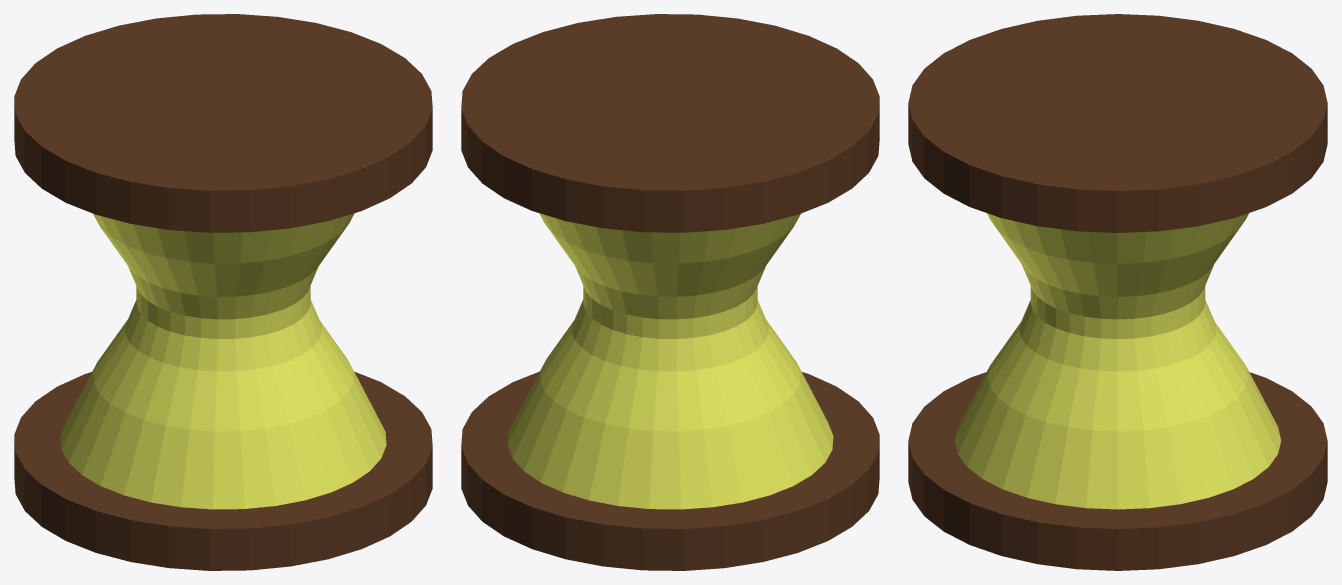
The model's file is HourGlass.fbx.
3 views of the same model, side by side, from view 1: azimuth 30°, elevation 25°; view 2: azimuth 150°, elevation 25°; view 3: azimuth 270°, elevation 25° (orthographic).
Parts seen in each view (by area): view 1: Cylinder; view 2: Cylinder; view 3: Cylinder.
Boxes of the visible parts, bbox=[...] form: Cylinder: bbox=[14, 14, 432, 570]; Cylinder: bbox=[461, 14, 879, 570]; Cylinder: bbox=[908, 14, 1327, 570].
Size of the model in its own units: 0.4529 by 0.4529 by 0.4529.
